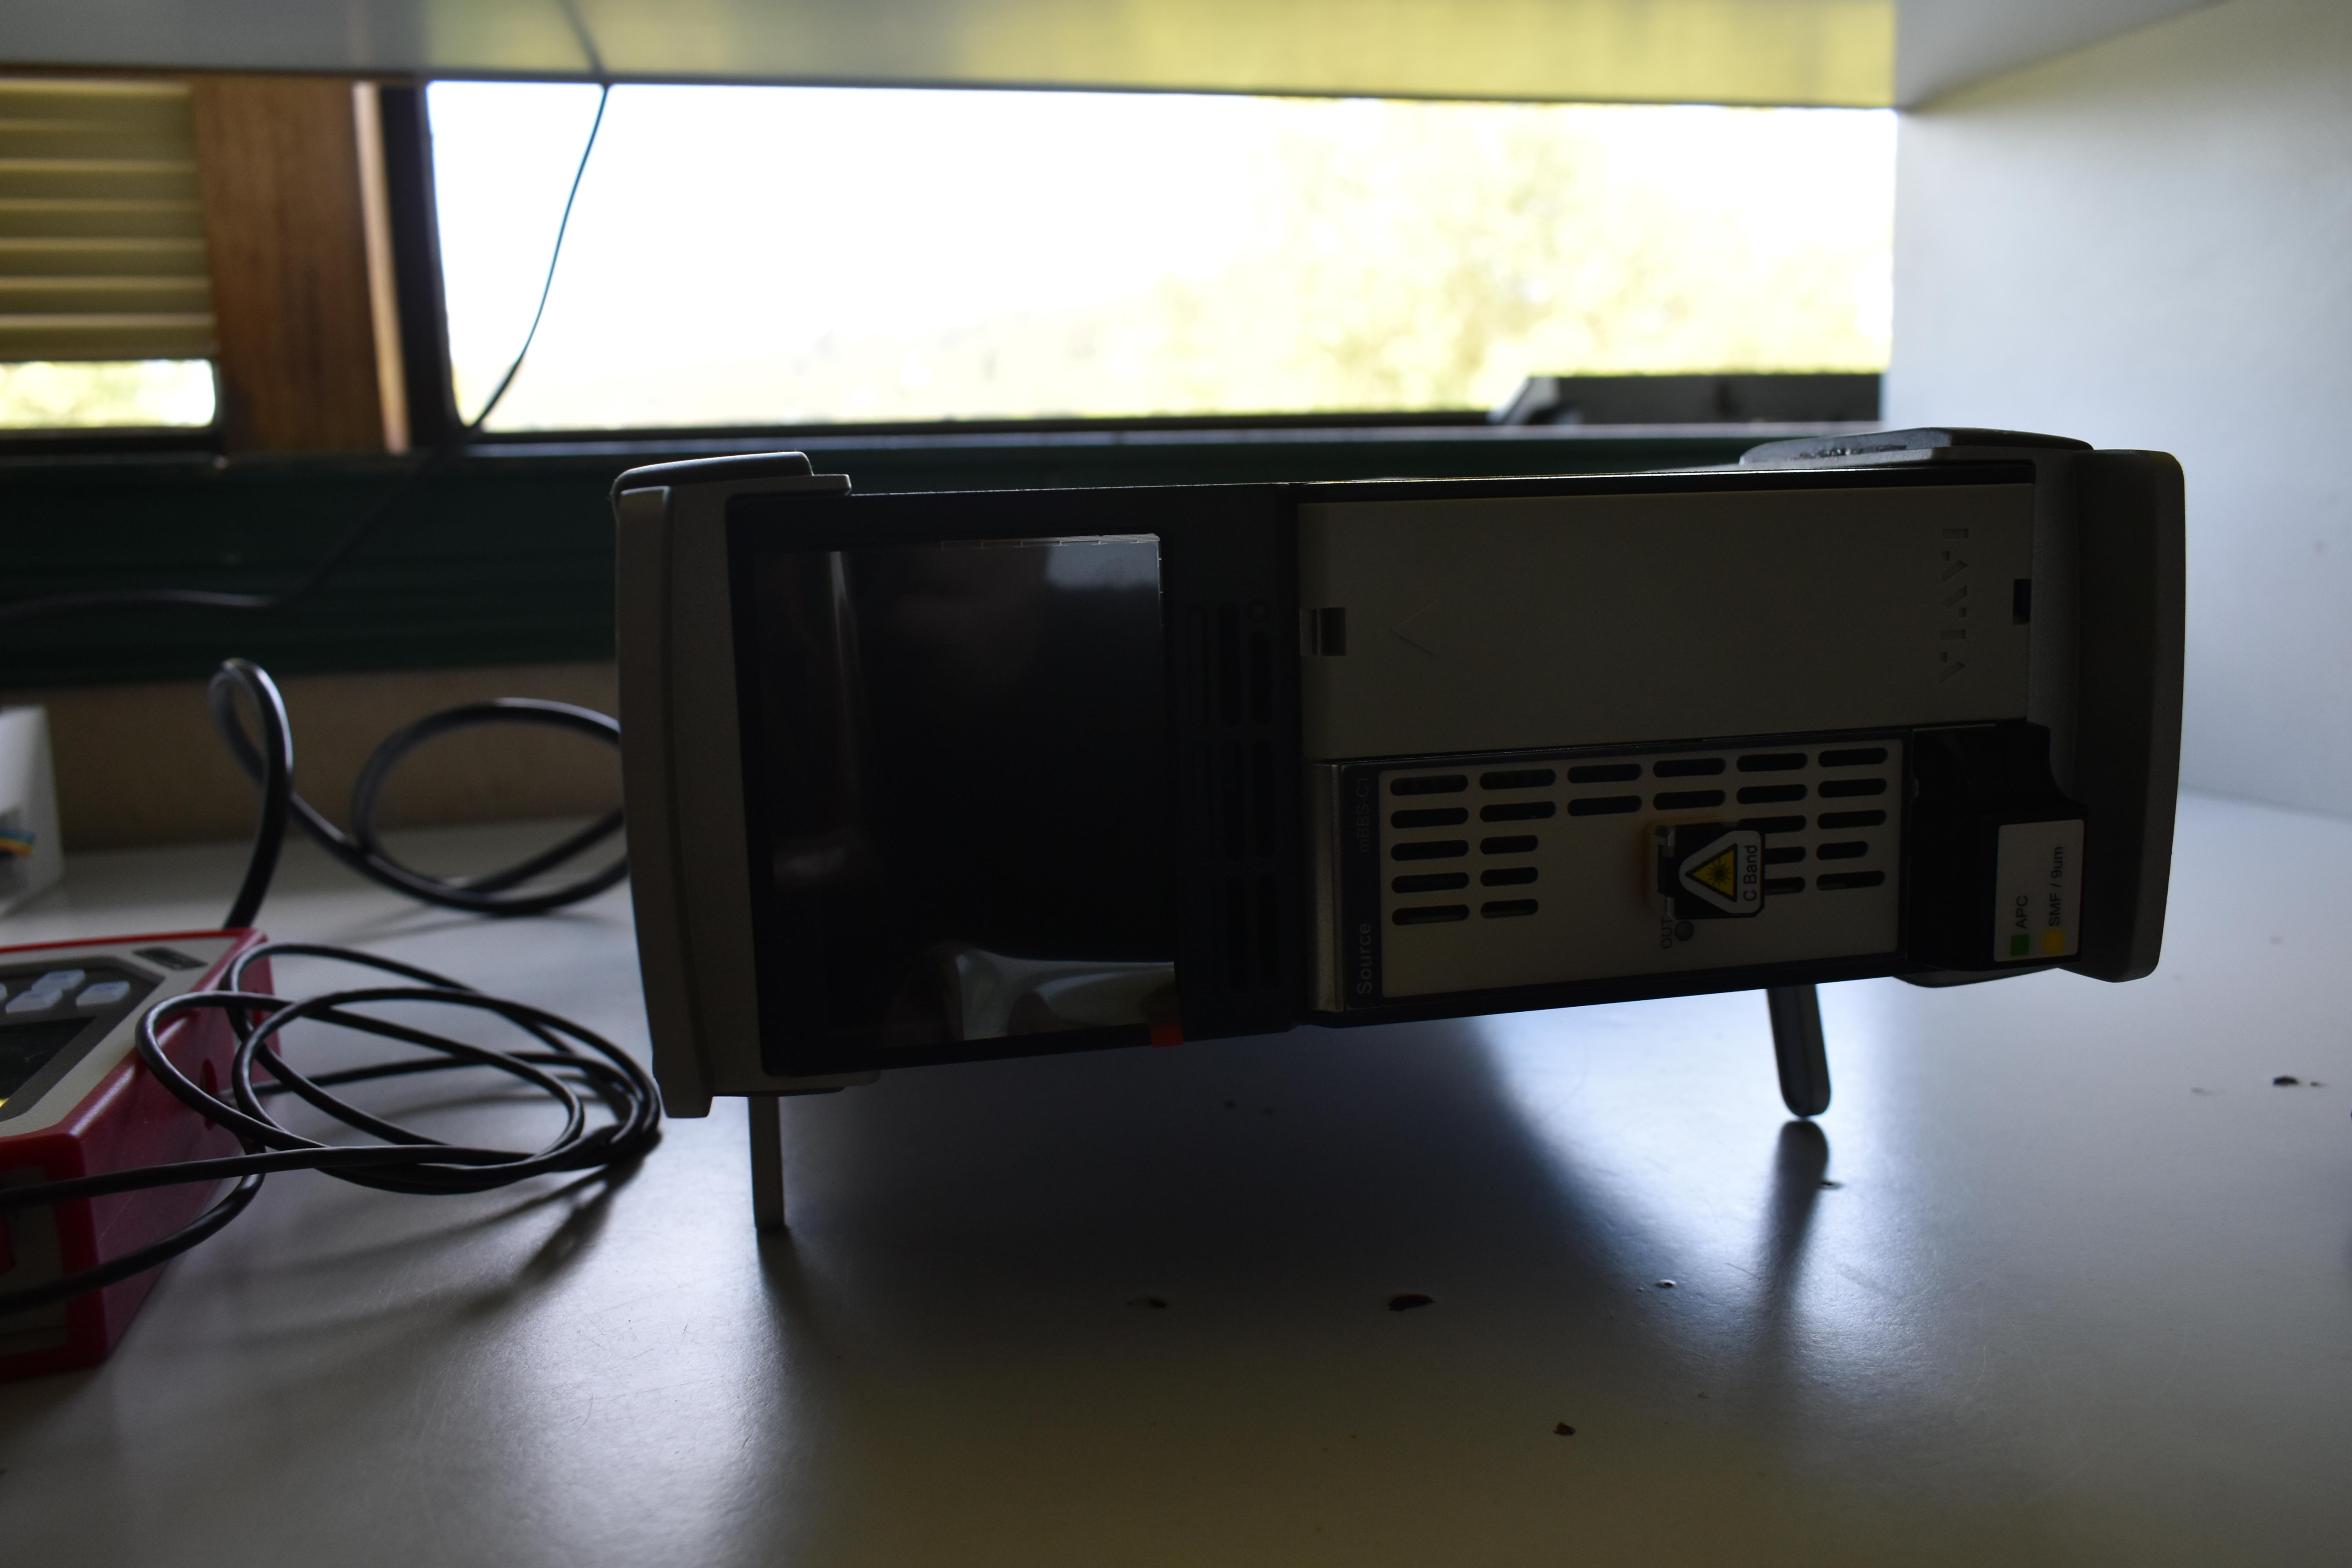laser: (600, 410, 2206, 1249)
